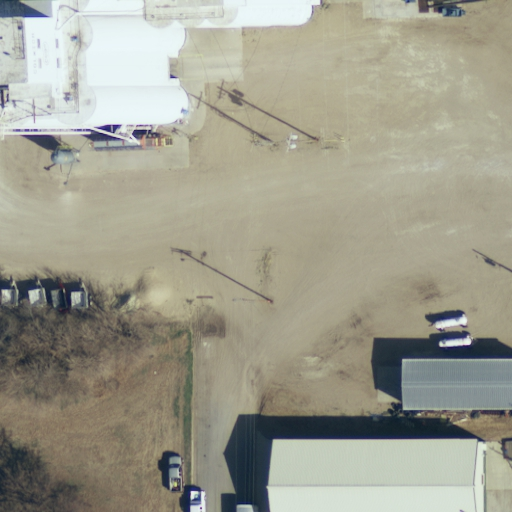DT: (230, 292, 277, 311), (283, 130, 319, 152), (246, 132, 280, 155)
